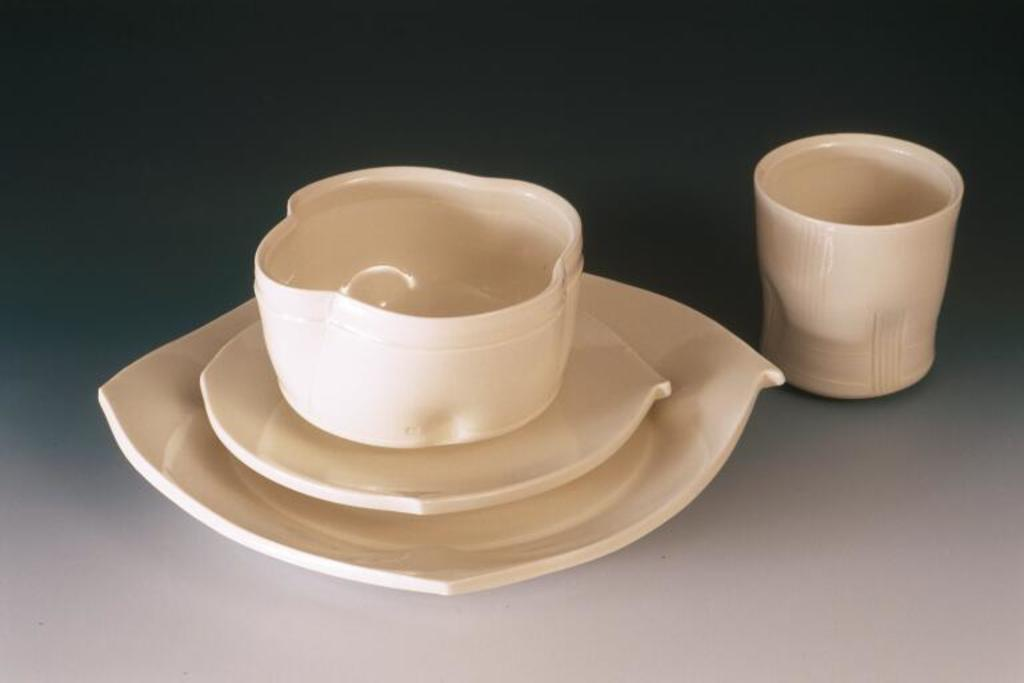plate: (100, 234, 784, 597)
